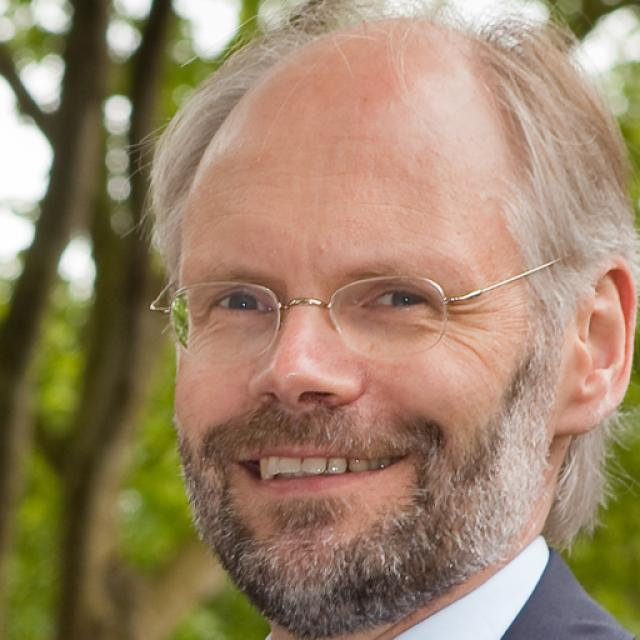Acne: (307, 237, 336, 261)
